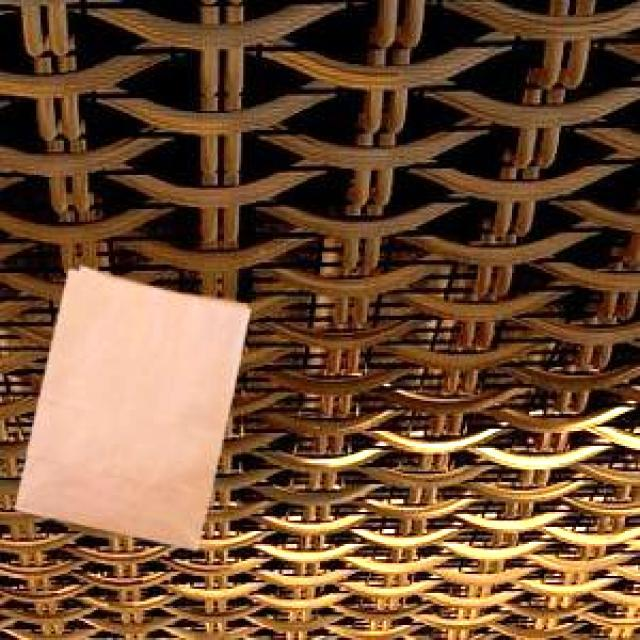Paper_Bag: (12, 264, 246, 548)
